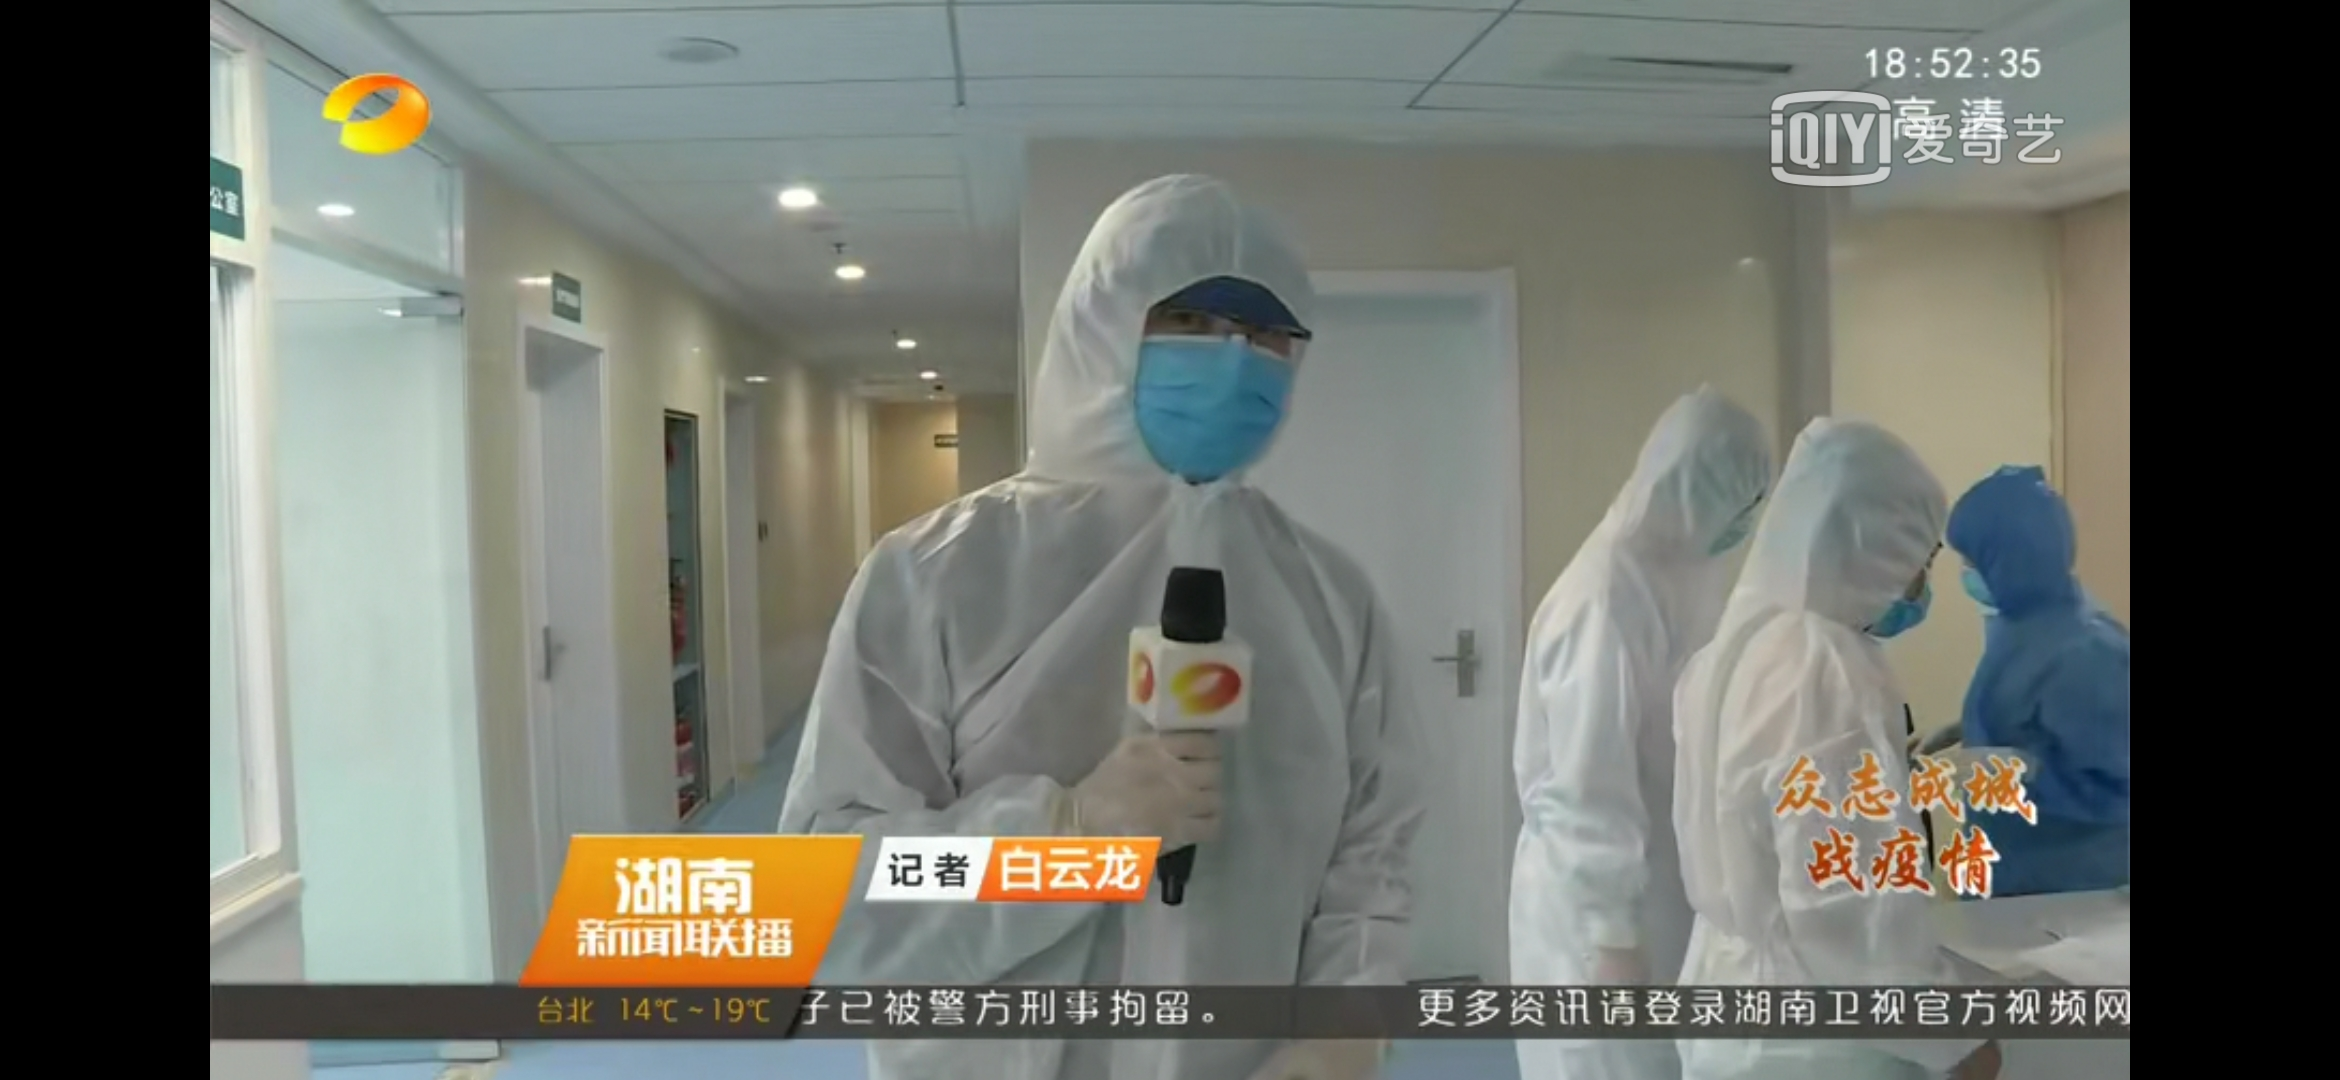correctlyWear: (1131, 283, 1316, 492), (1851, 485, 1942, 644), (1710, 446, 1767, 553), (1950, 522, 2010, 609)
